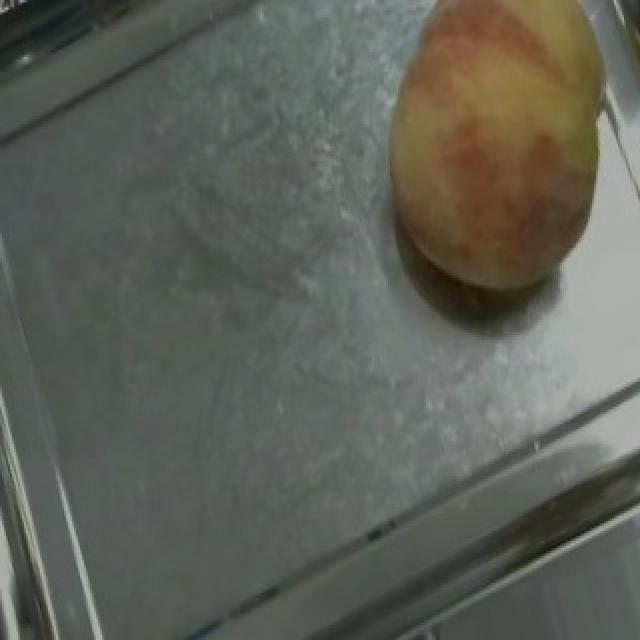Fruit: (346, 0, 640, 330)
